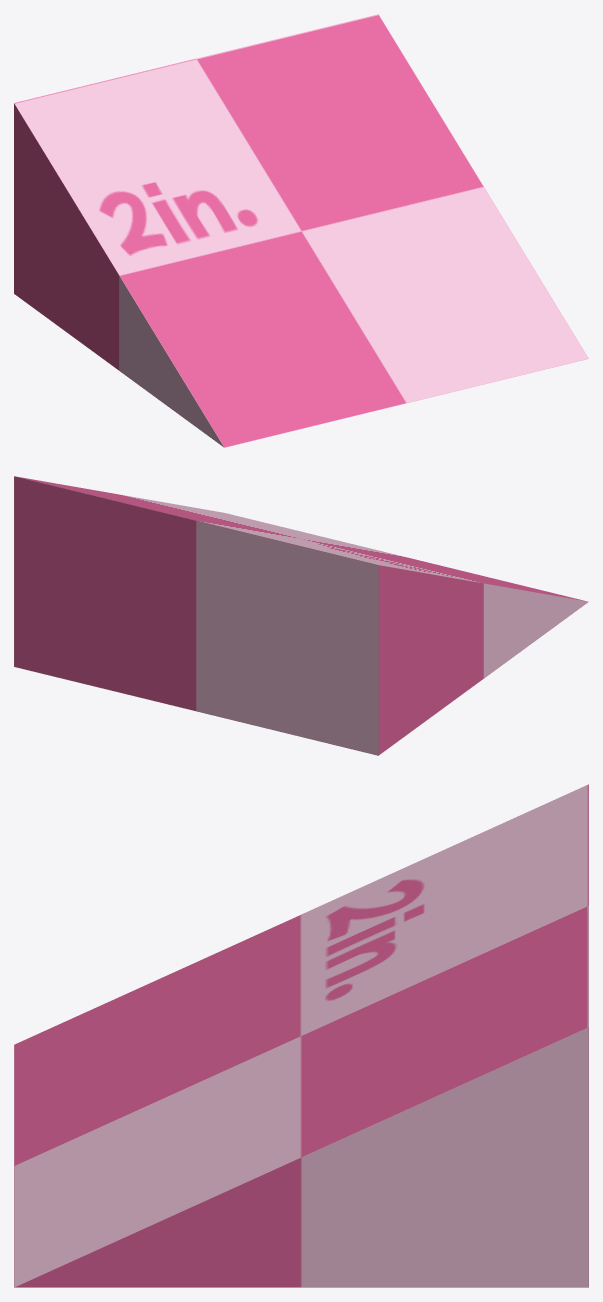
File: test_ramp_small.gltf
3 views of the same model, one above another, from view 1: azimuth 30°, elevation 25°; view 2: azimuth 150°, elevation 25°; view 3: azimuth 270°, elevation 25° (orthographic). The views are drawn at different scales.
Parts seen in each view (by area): view 1: Ramp; view 2: Ramp; view 3: Ramp.
Part boxes in pixels (x1,y1,x2,y2): Ramp: (14, 14, 588, 447); Ramp: (14, 476, 588, 755); Ramp: (14, 784, 588, 1287).
Bounding box in the file's own units: 2 × 1 × 2.
Materials: 1 (1 with a texture image).
